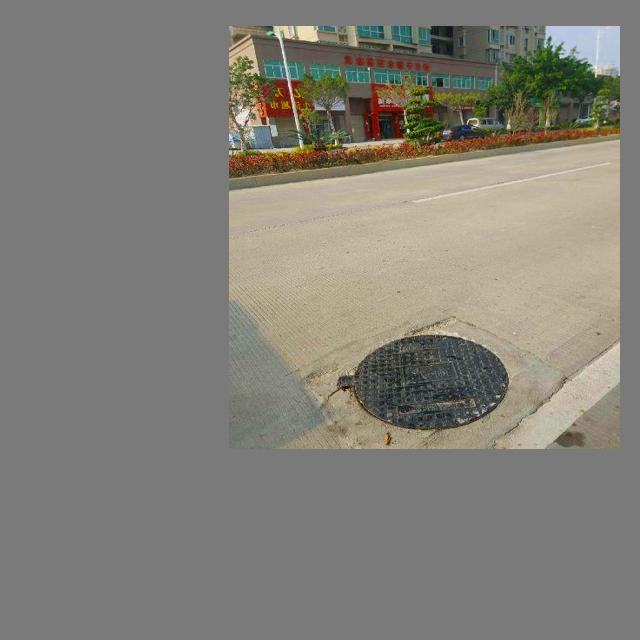good: (300, 314, 569, 448)
